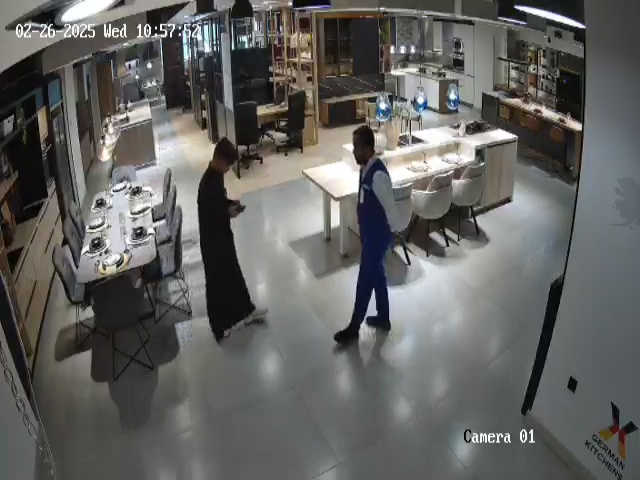employee: (332, 126, 402, 345)
male: (197, 137, 268, 342)
